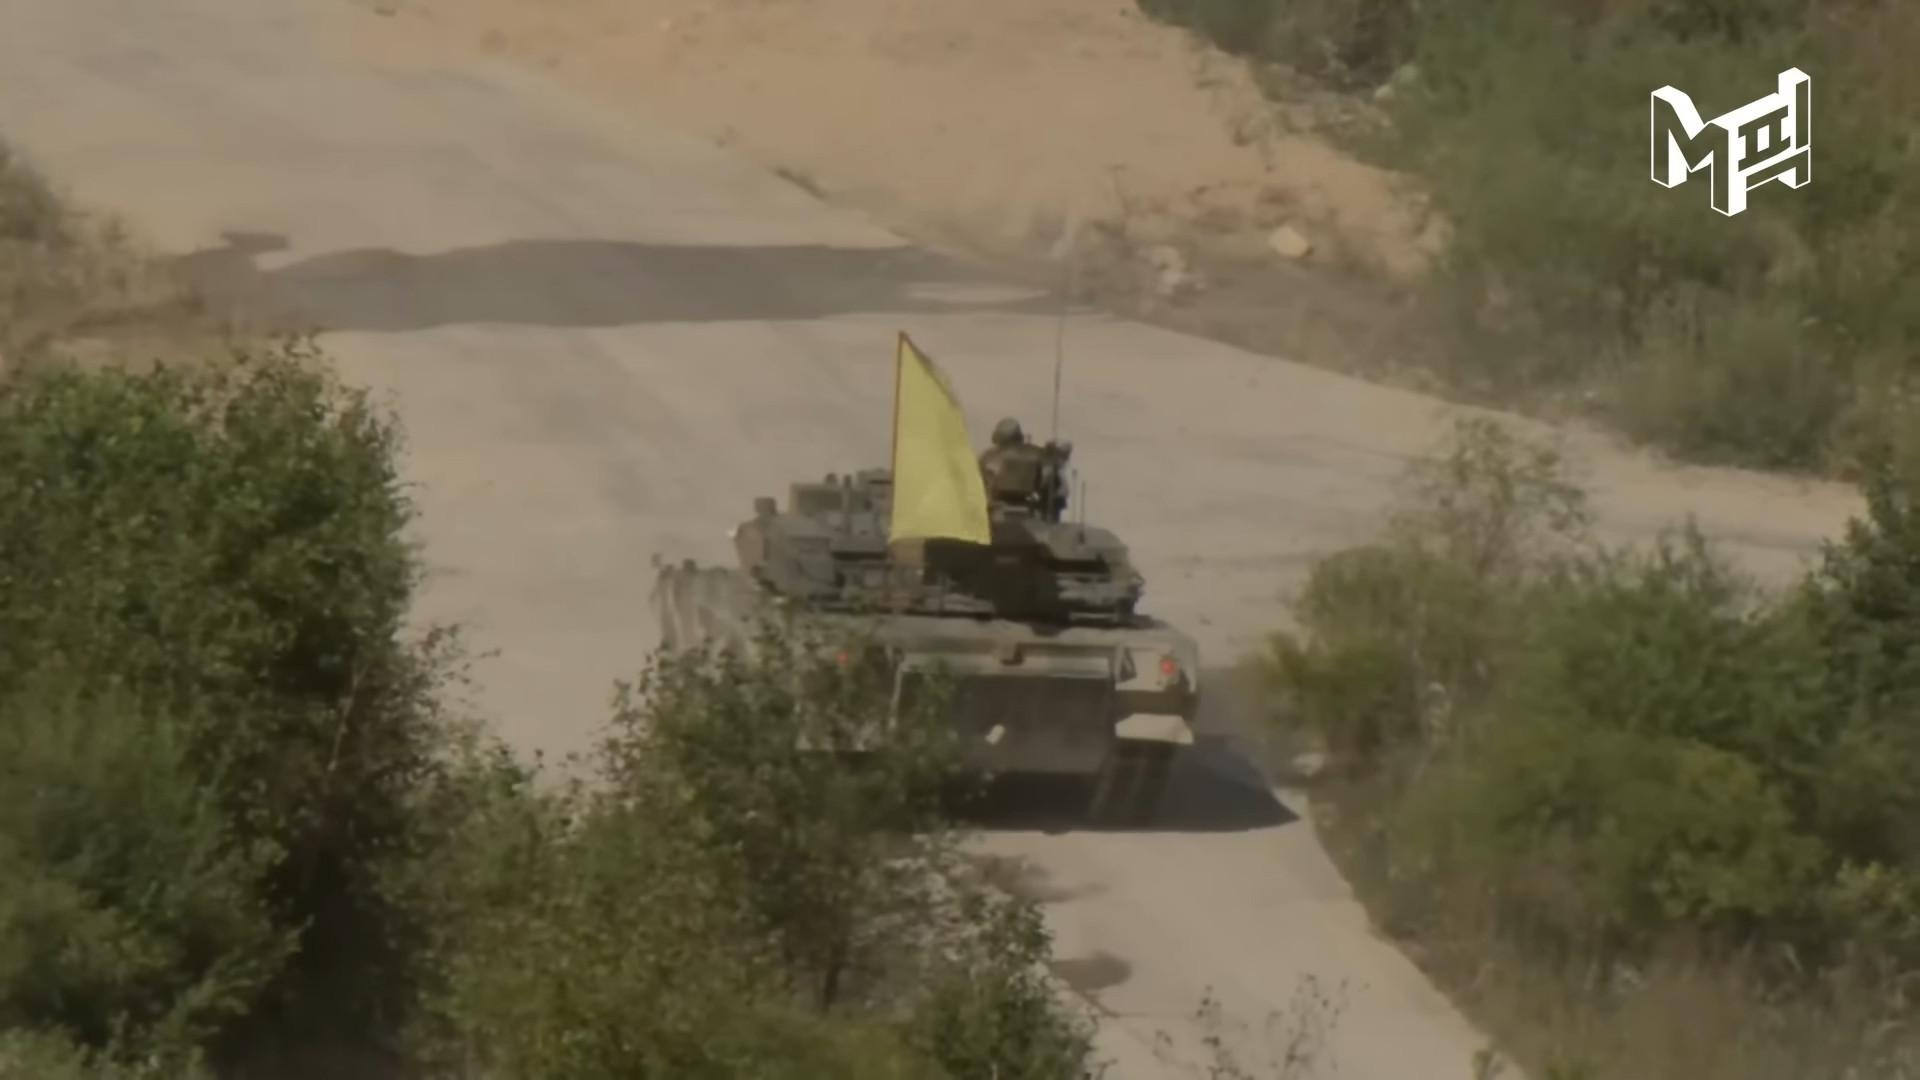tank: (659, 331, 1201, 829)
